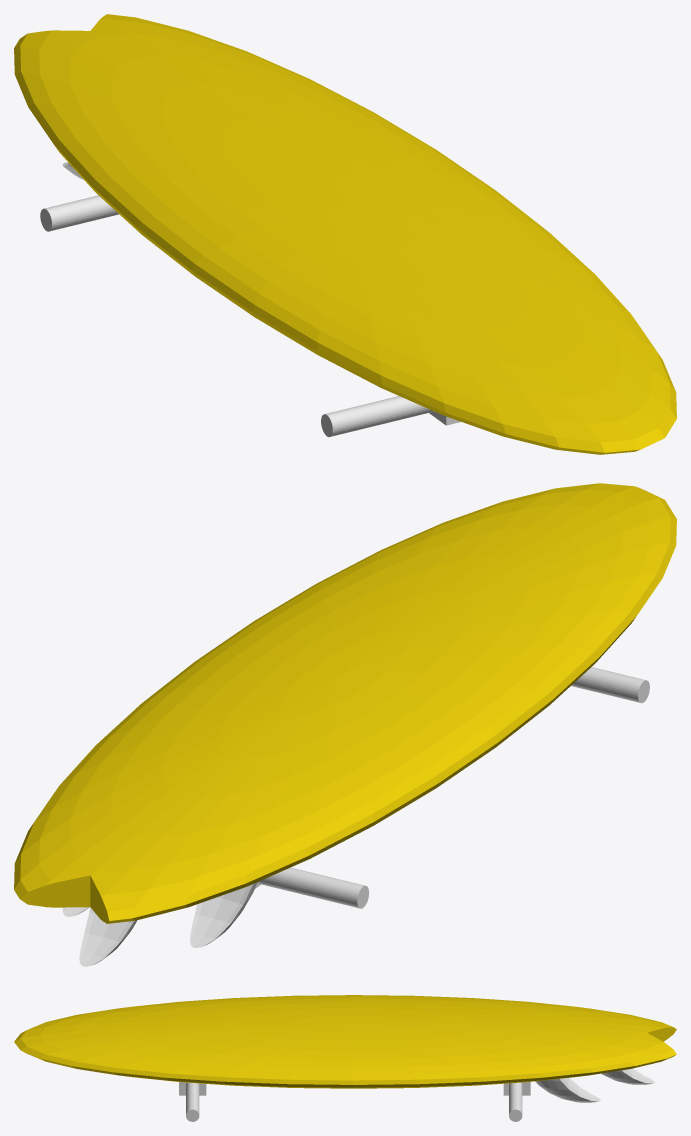
The model's file is turtBoard.fbx.
3 renders of one model, top to bottom at view 1: azimuth 30°, elevation 25°; view 2: azimuth 150°, elevation 25°; view 3: azimuth 270°, elevation 25°, orthographic. The views are drawn at different scales.
Parts seen in each view (by area): view 1: Sphere.002, Cylinder.004, Cylinder.001; view 2: Sphere.002, Cylinder.001, Sphere.001, Sphere, Cylinder.004; view 3: Sphere.002, Sphere.003, Sphere, Cylinder.001, Cylinder.004.
Boxes of the visible parts, x1,y1,x2,y2 form: Sphere.002: [14, 14, 676, 454]; Cylinder.004: [321, 396, 433, 437]; Cylinder.001: [40, 195, 119, 231]; Sphere.002: [14, 483, 676, 923]; Cylinder.001: [257, 867, 368, 908]; Sphere.001: [190, 882, 257, 947]; Sphere: [79, 907, 137, 966]; Cylinder.004: [571, 667, 649, 703]; Sphere.002: [14, 995, 676, 1088]; Sphere.003: [535, 1077, 600, 1102]; Sphere: [601, 1068, 654, 1084]; Cylinder.001: [509, 1082, 522, 1121]; Cylinder.004: [186, 1082, 199, 1121].
Size of the model in its own units: 310 by 98.68 by 976.
